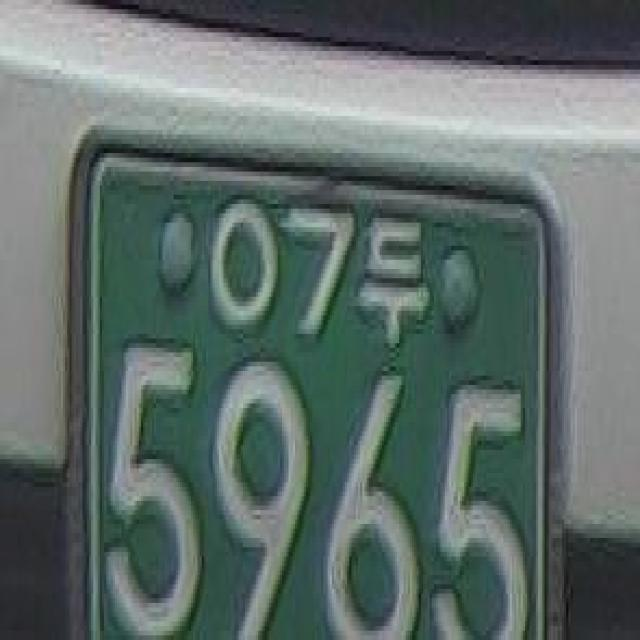illegal_plate: (67, 101, 584, 640)
